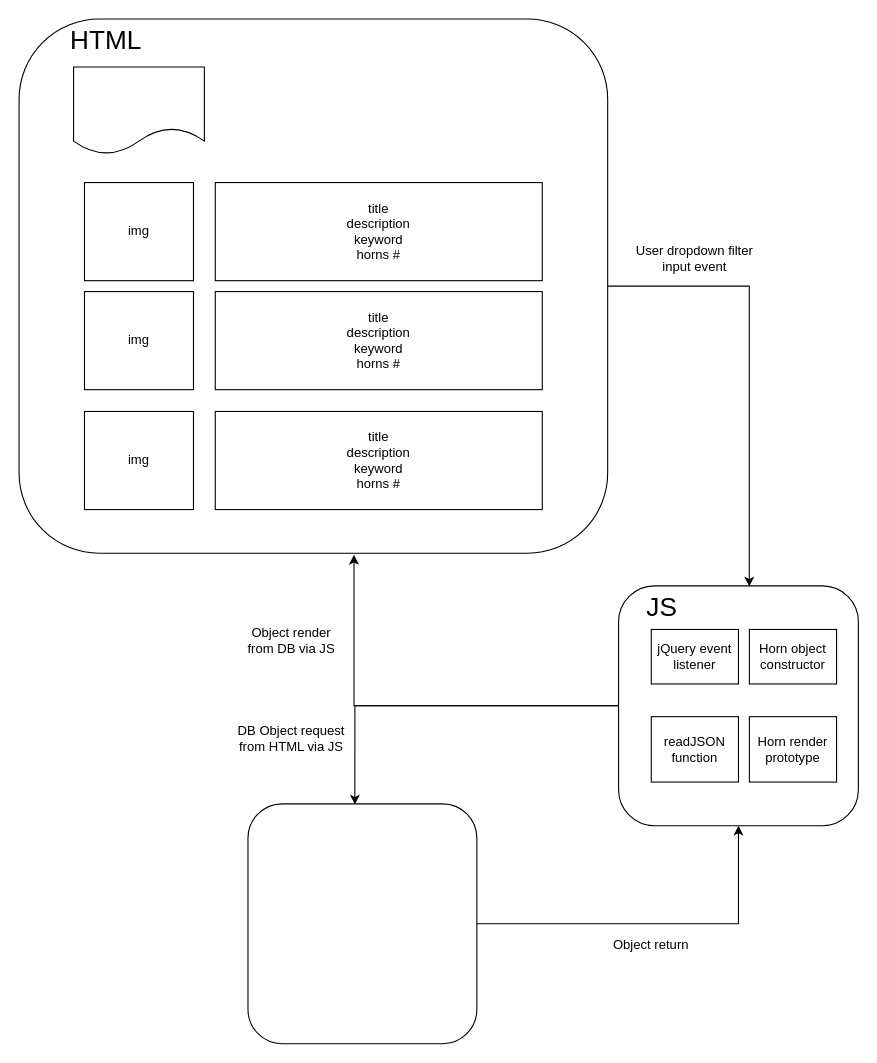
This 877x1063 diagram has some shape labels left out. Here are the shapes that lost their labels. From the top down, the centre of each, then its label:
the point at 138,110: Dropdown menu - filter by keyord
the point at 362,923: DB List of horn objects with img, title, description, keyword, and horns # data.
